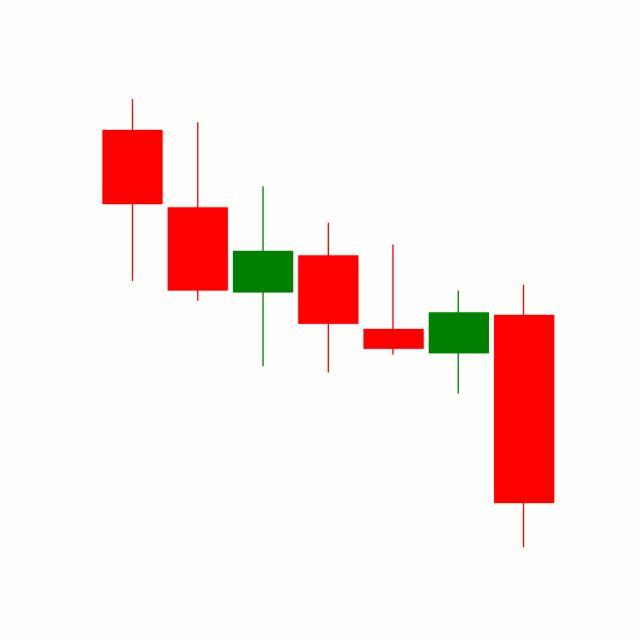Hikkake Pattern: (165, 120, 492, 399)
